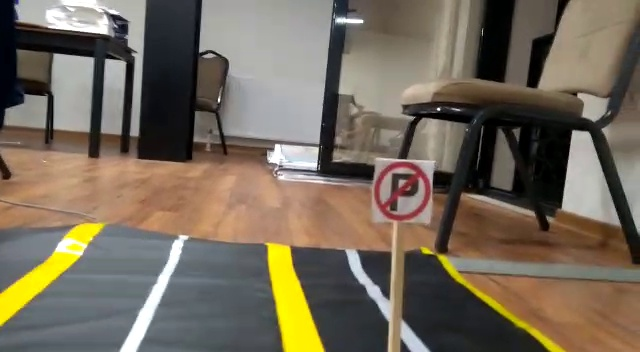park_yapilmaz: (375, 157, 435, 224)
